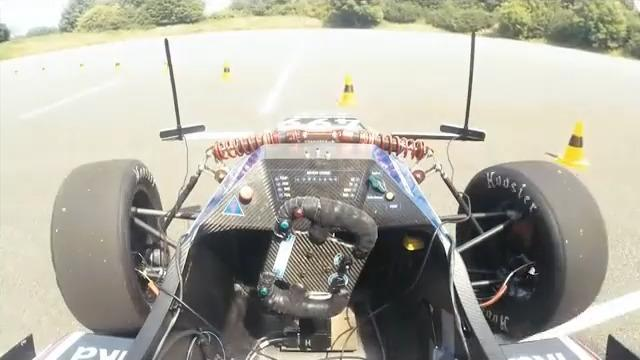yellow_cone: (557, 120, 591, 169), (337, 75, 361, 107)
